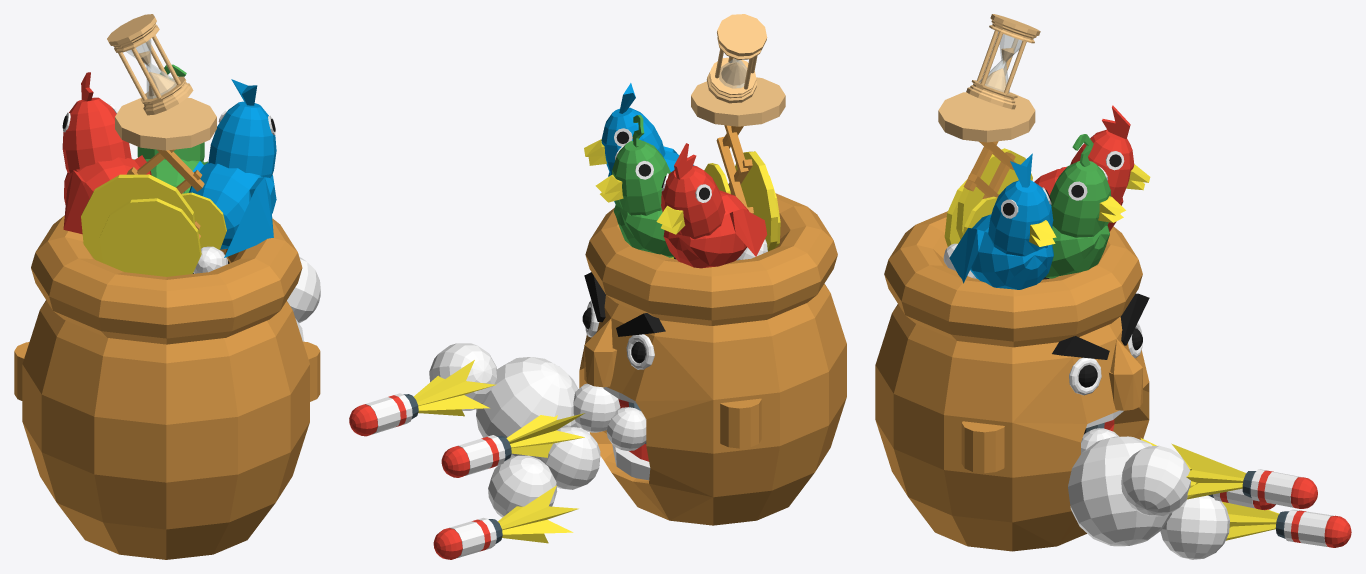
Rendered from Magic Vase.glb.
The picture shows the model from 3 angles, left to right: view 1: azimuth 30°, elevation 25°; view 2: azimuth 150°, elevation 25°; view 3: azimuth 270°, elevation 25°; orthographic projection. The views are drawn at different scales.
Parts seen in each view (by area): view 1: group990457432, group1893882648, group1966335642, group73388217, group1454916276, group1112413636, group768007922, group62149253, group1332835053, group411697983, group2026390007, group783504047 (+3 smaller); view 2: group990457432, group1893882648, group1454916276, group646448280, group2026390007, group155750271, group908220438, group1707071321, group768007922, group1112413636, group1794560549, group1550087528 (+11 smaller); view 3: group990457432, group1893882648, group1966335642, group646448280, group2026390007, group155750271, group411697983, group1112413636, group908220438, group1794560549, group768007922, group1454916276 (+8 smaller).
Part boxes in pixels (<box>): group990457432: <box>22,261,309,559</box>; group1893882648: <box>31,215,302,344</box>; group1966335642: <box>184,101,276,257</box>; group73388217: <box>99,198,201,276</box>; group1454916276: <box>62,97,151,234</box>; group1112413636: <box>115,97,216,150</box>; group768007922: <box>107,14,193,115</box>; group62149253: <box>81,174,195,262</box>; group1332835053: <box>181,192,226,249</box>; group411697983: <box>287,257,320,323</box>; group2026390007: <box>133,142,207,193</box>; group783504047: <box>303,341,320,401</box>; group990457432: <box>579,257,846,525</box>; group1893882648: <box>585,193,837,325</box>; group1454916276: <box>656,165,767,268</box>; group646448280: <box>476,357,579,458</box>; group2026390007: <box>595,140,674,258</box>; group155750271: <box>349,360,496,436</box>; group908220438: <box>433,485,578,559</box>; group1707071321: <box>441,413,584,477</box>; group768007922: <box>706,14,767,103</box>; group1112413636: <box>691,77,785,126</box>; group1794560549: <box>488,455,557,517</box>; group1550087528: <box>538,426,600,489</box>; group990457432: <box>875,277,1149,551</box>; group1893882648: <box>884,211,1142,347</box>; group1966335642: <box>949,180,1056,289</box>; group646448280: <box>1068,436,1172,546</box>; group2026390007: <box>1045,161,1125,278</box>; group155750271: <box>1171,443,1317,508</box>; group411697983: <box>1121,445,1190,516</box>; group1112413636: <box>938,92,1035,142</box>; group908220438: <box>1222,501,1351,547</box>; group1794560549: <box>1160,495,1229,559</box>; group768007922: <box>966,14,1040,109</box>; group1454916276: <box>1034,129,1150,231</box>.
Size of the model in its own units: 0.6153 by 0.8461 by 0.7358.
